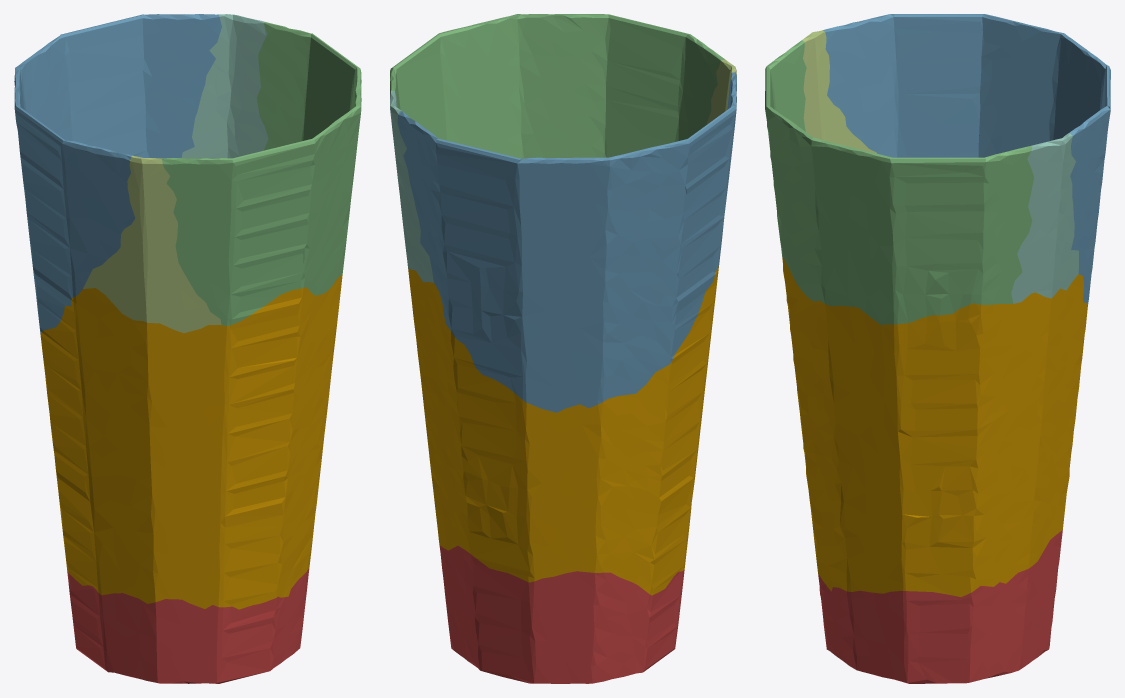
File: fractured_66_6pcs.glb
3 renders of one model, left to right at view 1: azimuth 30°, elevation 25°; view 2: azimuth 150°, elevation 25°; view 3: azimuth 270°, elevation 25°, orthographic.
Visible parts, largest first — view 1: piece_0.obj, piece_2.obj, piece_3.obj, piece_1.obj, piece_5.obj, piece_4.obj; view 2: piece_2.obj, piece_0.obj, piece_3.obj, piece_1.obj, piece_4.obj, piece_5.obj; view 3: piece_0.obj, piece_3.obj, piece_2.obj, piece_1.obj, piece_4.obj, piece_5.obj.
Boxes of the visible parts, box(x1,y1,x2,y2) form: piece_0.obj: box(40, 274, 342, 609); piece_2.obj: box(14, 14, 221, 333); piece_3.obj: box(162, 22, 361, 325); piece_1.obj: box(67, 568, 309, 683); piece_5.obj: box(83, 155, 221, 333); piece_4.obj: box(181, 14, 268, 158); piece_2.obj: box(397, 72, 736, 412); piece_0.obj: box(408, 266, 718, 595); piece_3.obj: box(390, 14, 724, 158); piece_1.obj: box(439, 545, 684, 683); piece_4.obj: box(390, 91, 433, 282); piece_5.obj: box(706, 59, 736, 124); piece_0.obj: box(782, 258, 1087, 596); piece_3.obj: box(765, 40, 1034, 324); piece_2.obj: box(823, 14, 1110, 303); piece_1.obj: box(818, 530, 1062, 683); piece_4.obj: box(1011, 133, 1078, 303); piece_5.obj: box(802, 30, 876, 153).
Size of the model in its own units: 0.5675 by 1 by 0.5677.
